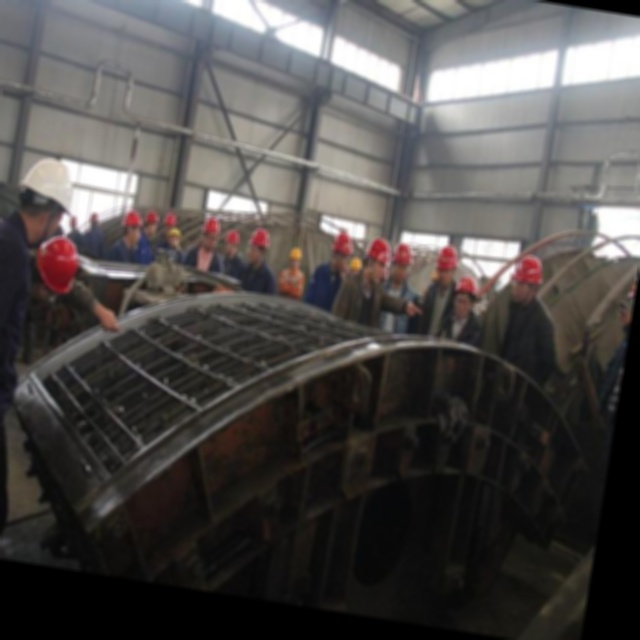Con_Casco: (16, 153, 78, 241), (31, 233, 81, 296), (507, 251, 546, 308), (361, 237, 392, 286), (431, 244, 462, 286), (245, 226, 270, 263), (199, 215, 222, 249)
